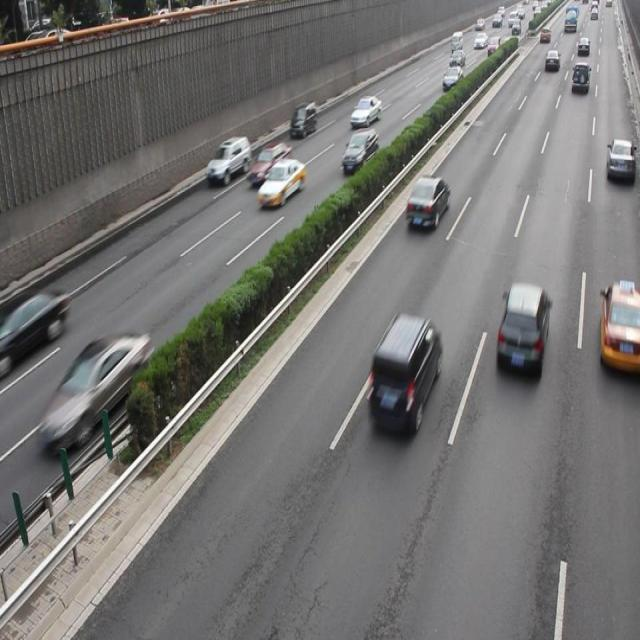car: (39, 328, 150, 452), (494, 282, 549, 378), (1, 286, 66, 364), (598, 281, 640, 376), (404, 175, 448, 230), (257, 156, 304, 207), (205, 134, 251, 184), (247, 140, 290, 187), (605, 135, 640, 183), (341, 128, 377, 173), (350, 94, 380, 126)
truck: (366, 314, 440, 436), (289, 99, 317, 138)
